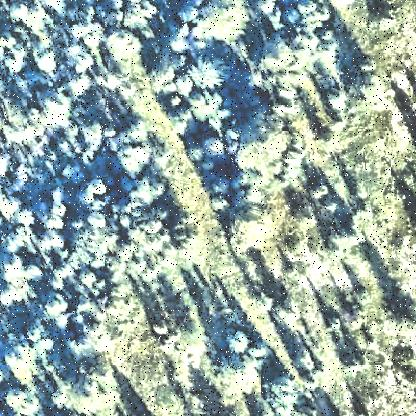tree-top: (239, 123, 293, 173), (194, 1, 254, 45), (214, 356, 264, 400), (226, 207, 272, 249), (5, 337, 46, 383), (105, 28, 145, 68), (189, 54, 227, 92), (189, 87, 227, 124), (119, 140, 155, 176), (303, 31, 339, 67), (132, 173, 170, 206), (75, 376, 110, 411), (261, 36, 295, 72), (66, 42, 99, 78), (6, 1, 44, 30), (389, 298, 416, 336), (350, 66, 382, 98), (4, 382, 38, 412), (273, 296, 303, 330), (329, 222, 363, 252), (268, 367, 298, 400), (369, 3, 399, 35), (294, 1, 332, 25), (141, 213, 173, 241), (4, 45, 33, 75), (67, 69, 95, 99), (45, 185, 69, 219), (41, 294, 70, 322), (32, 47, 60, 75), (43, 198, 71, 226), (39, 226, 69, 252), (124, 118, 152, 145), (6, 117, 33, 145), (85, 175, 113, 201), (343, 349, 371, 375), (326, 85, 352, 112), (201, 134, 228, 160), (2, 226, 26, 255), (272, 96, 302, 119), (224, 330, 250, 356), (174, 72, 200, 98), (2, 195, 26, 221), (82, 119, 106, 145), (45, 93, 71, 117), (16, 208, 40, 232), (25, 323, 49, 347), (5, 255, 29, 279), (72, 333, 96, 357), (307, 180, 331, 202), (2, 284, 24, 308), (152, 316, 174, 338), (87, 211, 111, 231), (49, 271, 69, 293), (253, 1, 280, 17), (49, 186, 68, 208), (1, 150, 15, 179), (79, 270, 99, 290), (326, 316, 346, 334), (44, 2, 70, 14)
